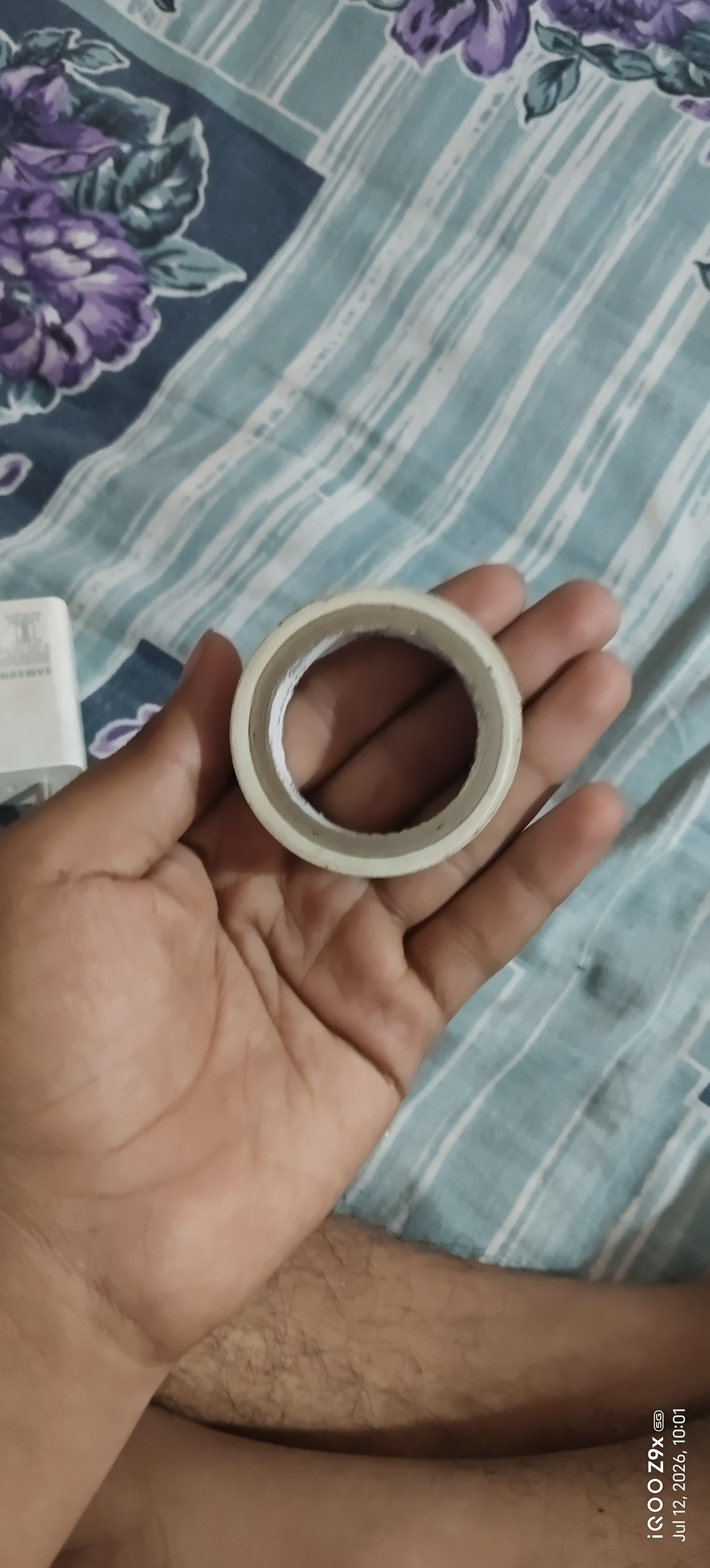charger: (0, 554, 119, 867)
tape_roll: (206, 556, 539, 913)
